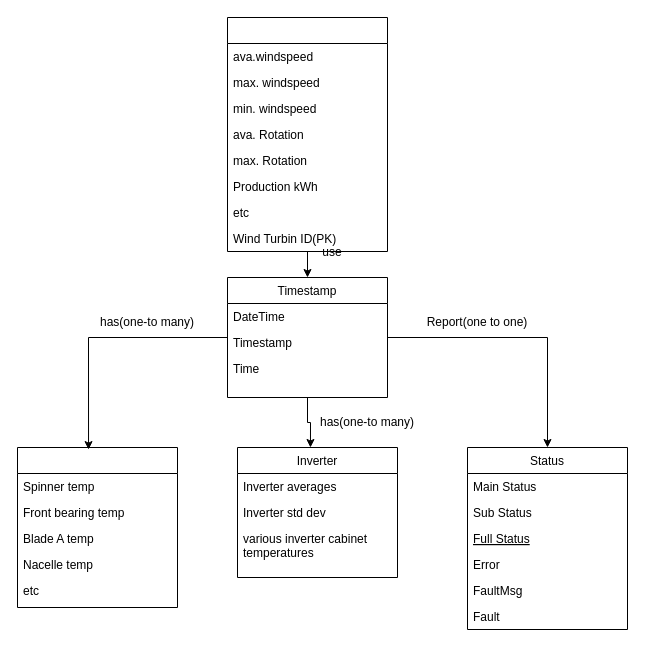
This 645x650 diagram has some shape labels left out. The shapes that lost their labels are listed below. From the top down, each one's box as (x1, y1, x2, y2) in pixels, then its label:
(226, 16, 388, 252): Wind Turbine(WEC)
(16, 446, 178, 608): Temperature
